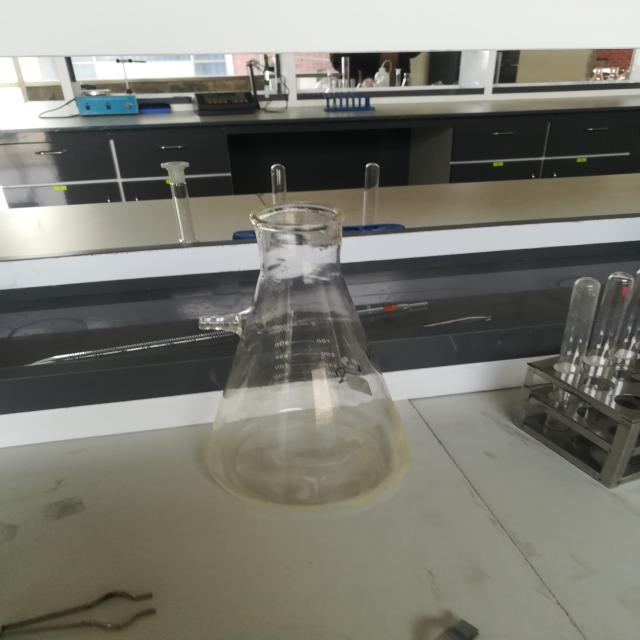Conical_Flask: (168, 202, 433, 525)
